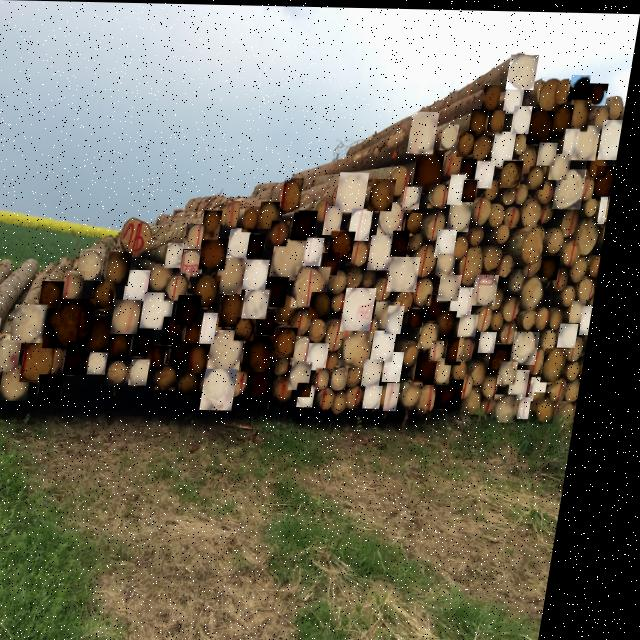wood-log: (55, 298, 107, 348), (278, 237, 318, 279), (300, 265, 340, 306), (33, 338, 70, 382), (350, 286, 386, 330), (213, 368, 250, 409), (219, 329, 256, 369), (22, 304, 59, 343), (417, 148, 450, 191), (341, 170, 375, 211), (559, 166, 592, 207), (150, 291, 185, 329), (412, 110, 443, 152), (350, 329, 385, 366), (93, 315, 127, 352), (253, 334, 286, 371), (508, 52, 541, 88), (396, 254, 429, 290), (224, 257, 256, 293), (12, 365, 44, 401), (2, 335, 34, 371), (258, 364, 288, 402), (530, 105, 560, 142), (540, 75, 572, 108), (576, 122, 605, 158), (122, 299, 152, 333), (375, 233, 403, 269), (207, 237, 237, 269), (86, 248, 116, 280), (602, 117, 626, 157), (522, 329, 551, 362), (384, 200, 412, 234), (114, 251, 141, 286), (374, 177, 403, 209), (495, 129, 521, 164), (553, 345, 579, 380), (447, 377, 477, 407), (202, 275, 230, 307), (528, 275, 556, 307), (480, 272, 508, 303), (229, 294, 256, 326), (543, 389, 570, 421), (76, 341, 102, 374), (335, 230, 363, 260), (252, 288, 280, 318), (133, 269, 160, 300), (454, 198, 480, 230), (382, 328, 408, 360), (298, 209, 325, 239), (185, 294, 212, 324), (283, 326, 309, 357), (287, 176, 310, 211), (355, 207, 380, 239), (252, 258, 278, 288), (272, 276, 298, 306), (426, 351, 450, 383), (571, 97, 595, 129), (505, 392, 532, 420), (383, 299, 410, 327), (50, 374, 76, 403), (459, 285, 484, 315), (555, 102, 577, 136), (118, 333, 144, 361), (598, 163, 620, 196), (235, 227, 259, 257), (499, 342, 523, 372), (49, 281, 75, 308), (101, 281, 126, 309), (189, 249, 213, 278), (285, 295, 311, 321), (171, 316, 195, 344), (71, 270, 95, 298), (317, 341, 341, 369), (318, 290, 342, 318), (143, 327, 166, 356), (442, 227, 465, 256), (394, 350, 416, 380), (520, 367, 542, 397), (174, 274, 199, 300), (158, 263, 182, 290), (434, 292, 458, 319), (506, 158, 529, 186), (301, 360, 324, 388), (514, 103, 536, 132), (208, 209, 230, 238), (330, 204, 351, 234), (200, 342, 221, 372), (180, 341, 204, 367), (447, 273, 471, 299), (264, 200, 287, 227), (445, 309, 467, 337), (373, 357, 395, 385), (210, 311, 229, 343), (0, 365, 14, 408), (167, 364, 191, 389), (476, 131, 496, 161), (554, 151, 577, 177), (421, 277, 444, 303), (571, 72, 593, 99), (479, 159, 501, 186), (302, 334, 322, 363), (119, 360, 142, 385), (428, 321, 450, 347), (453, 173, 472, 203), (141, 358, 162, 385), (414, 380, 435, 407), (456, 335, 476, 363), (312, 236, 332, 264), (395, 304, 415, 332), (590, 151, 613, 175), (276, 219, 297, 245), (484, 83, 504, 110), (461, 128, 481, 155), (588, 80, 611, 103), (268, 310, 290, 334), (433, 182, 455, 206), (468, 312, 489, 337), (548, 253, 569, 278), (0, 317, 12, 360), (192, 372, 214, 395), (245, 316, 267, 339), (326, 251, 348, 274), (506, 88, 527, 112), (568, 321, 589, 345), (517, 267, 537, 292), (192, 223, 212, 248), (287, 375, 306, 401), (249, 205, 268, 231), (444, 122, 463, 148), (398, 229, 417, 255), (99, 351, 120, 374), (541, 140, 562, 163), (509, 359, 530, 382), (408, 185, 428, 209), (158, 345, 178, 369), (376, 383, 396, 407), (396, 381, 413, 409), (195, 320, 214, 345), (541, 374, 560, 399), (490, 108, 509, 133), (173, 242, 192, 267), (473, 107, 492, 132), (446, 356, 464, 382), (444, 252, 465, 274), (532, 164, 552, 187), (468, 334, 486, 359), (231, 200, 247, 228), (567, 127, 584, 153), (255, 233, 274, 256), (310, 383, 329, 406), (432, 382, 447, 411), (343, 364, 361, 388), (411, 211, 430, 233), (489, 329, 508, 351), (579, 298, 596, 320), (464, 157, 482, 177), (326, 367, 343, 388), (467, 178, 483, 200), (590, 303, 602, 332), (596, 250, 609, 276), (604, 194, 616, 221), (441, 338, 456, 359), (531, 395, 545, 417), (417, 307, 434, 325), (309, 381, 325, 396)
